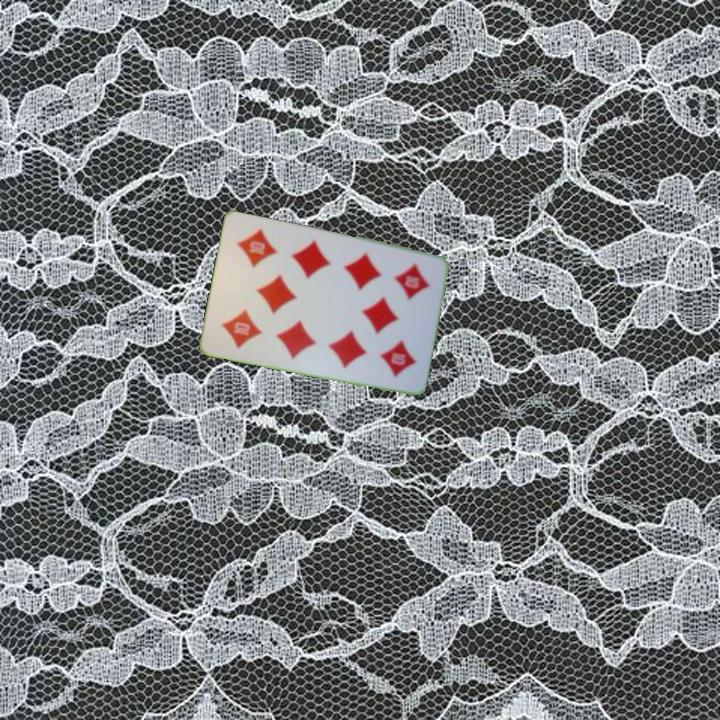d_10.png: (371, 251, 440, 327), (209, 281, 278, 357)
